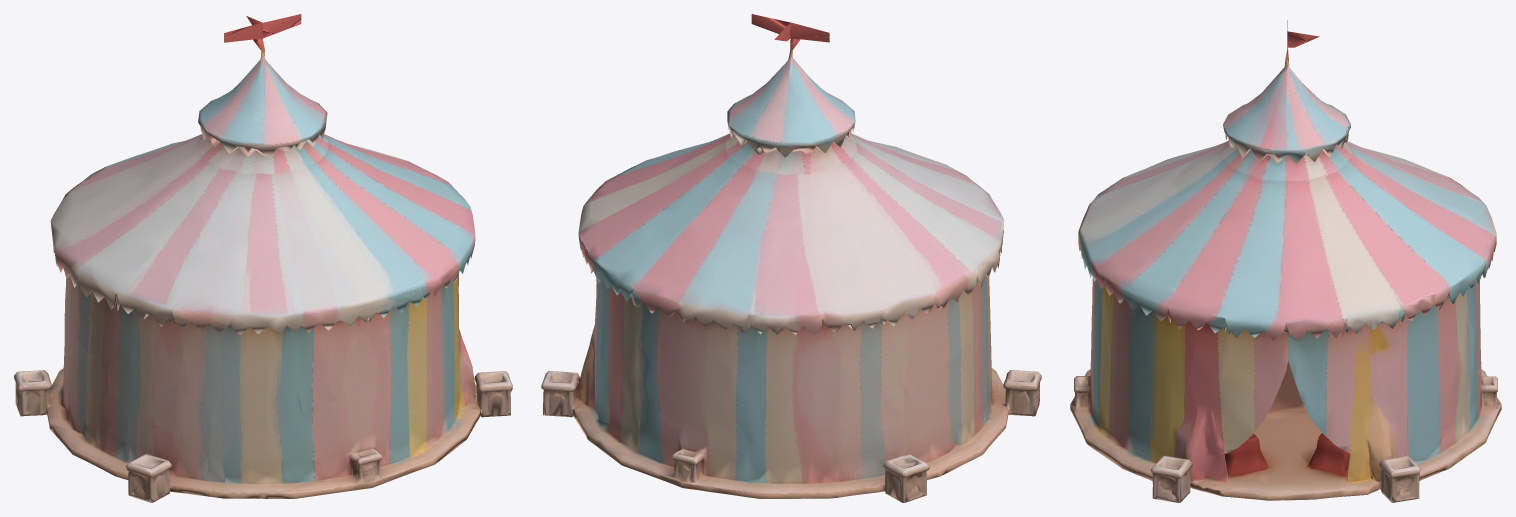
File: circus-tent.glb
The picture shows the model from 3 angles, left to right: view 1: azimuth 30°, elevation 25°; view 2: azimuth 150°, elevation 25°; view 3: azimuth 270°, elevation 25°; orthographic projection.
Visible parts, largest first — view 1: tripo_node_64a375de-72e5-4f18-bd23-7756d723cea3; view 2: tripo_node_64a375de-72e5-4f18-bd23-7756d723cea3; view 3: tripo_node_64a375de-72e5-4f18-bd23-7756d723cea3.
Part boxes in pixels (bbox=[...]): tripo_node_64a375de-72e5-4f18-bd23-7756d723cea3: bbox=[14, 14, 512, 502]; tripo_node_64a375de-72e5-4f18-bd23-7756d723cea3: bbox=[541, 14, 1041, 502]; tripo_node_64a375de-72e5-4f18-bd23-7756d723cea3: bbox=[1070, 20, 1501, 502].
Size of the model in its own units: 0.9985 by 0.966 by 0.992.
1 material, 1 textured.
